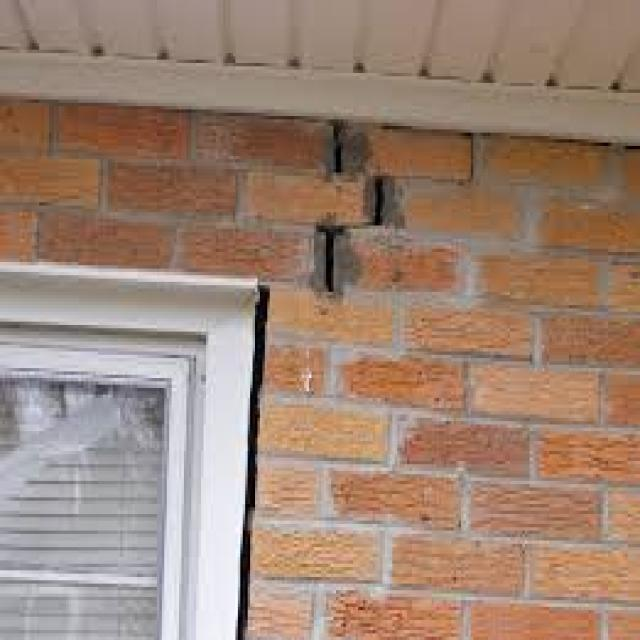Crack: (311, 119, 476, 292)
